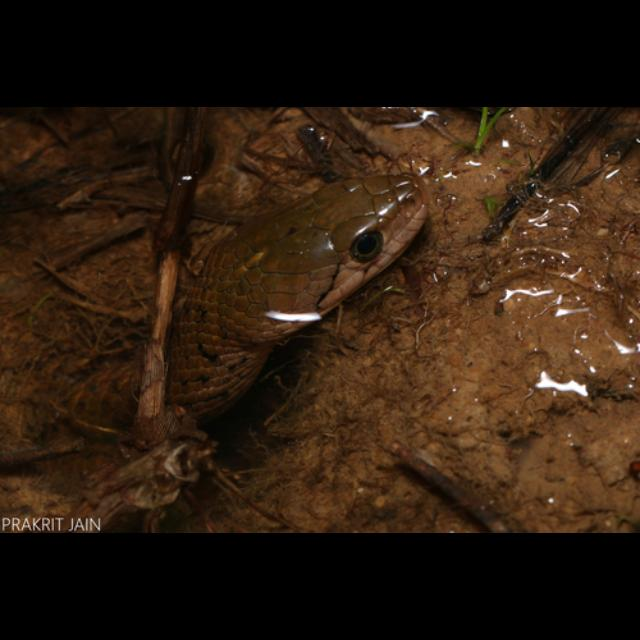snake: (154, 160, 434, 436)
